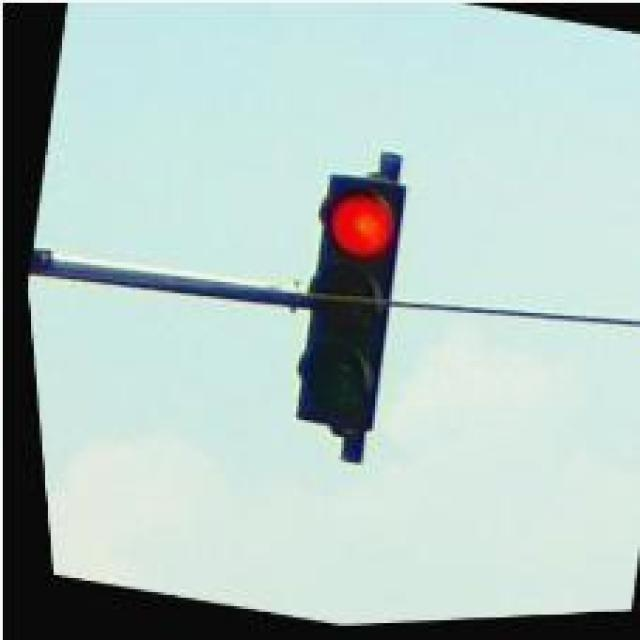Red: (266, 166, 422, 437)
